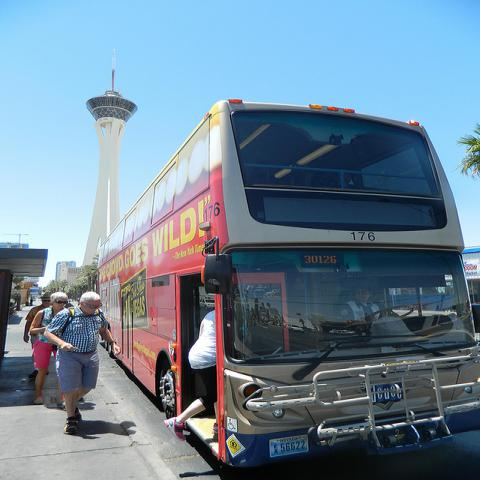bus: (86, 104, 479, 469)
